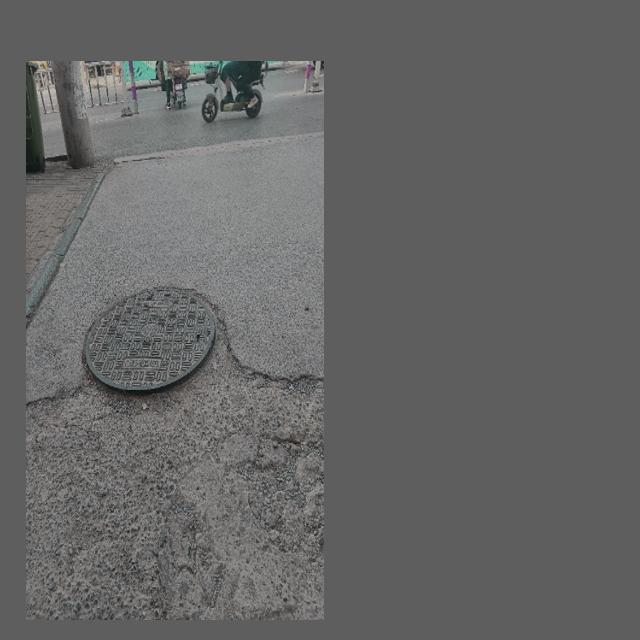good: (79, 287, 222, 392)
